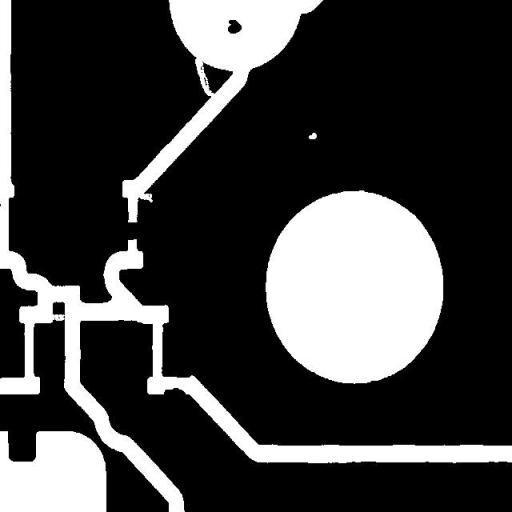copper: (220, 12, 249, 41)
mousebite: (131, 184, 160, 210)
open: (187, 50, 222, 104), (40, 306, 72, 328)
pin-hole: (301, 125, 324, 146)
short: (113, 214, 153, 248)
spur: (156, 380, 193, 403)
